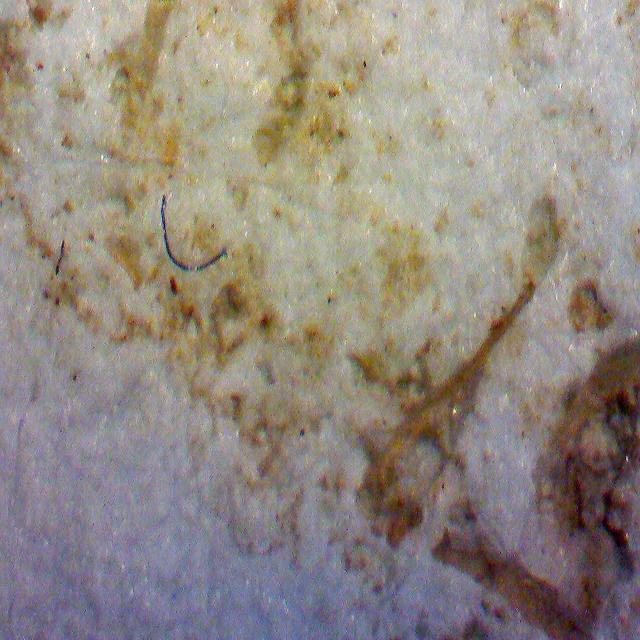microplastic: (134, 195, 230, 288), (53, 240, 67, 275)
